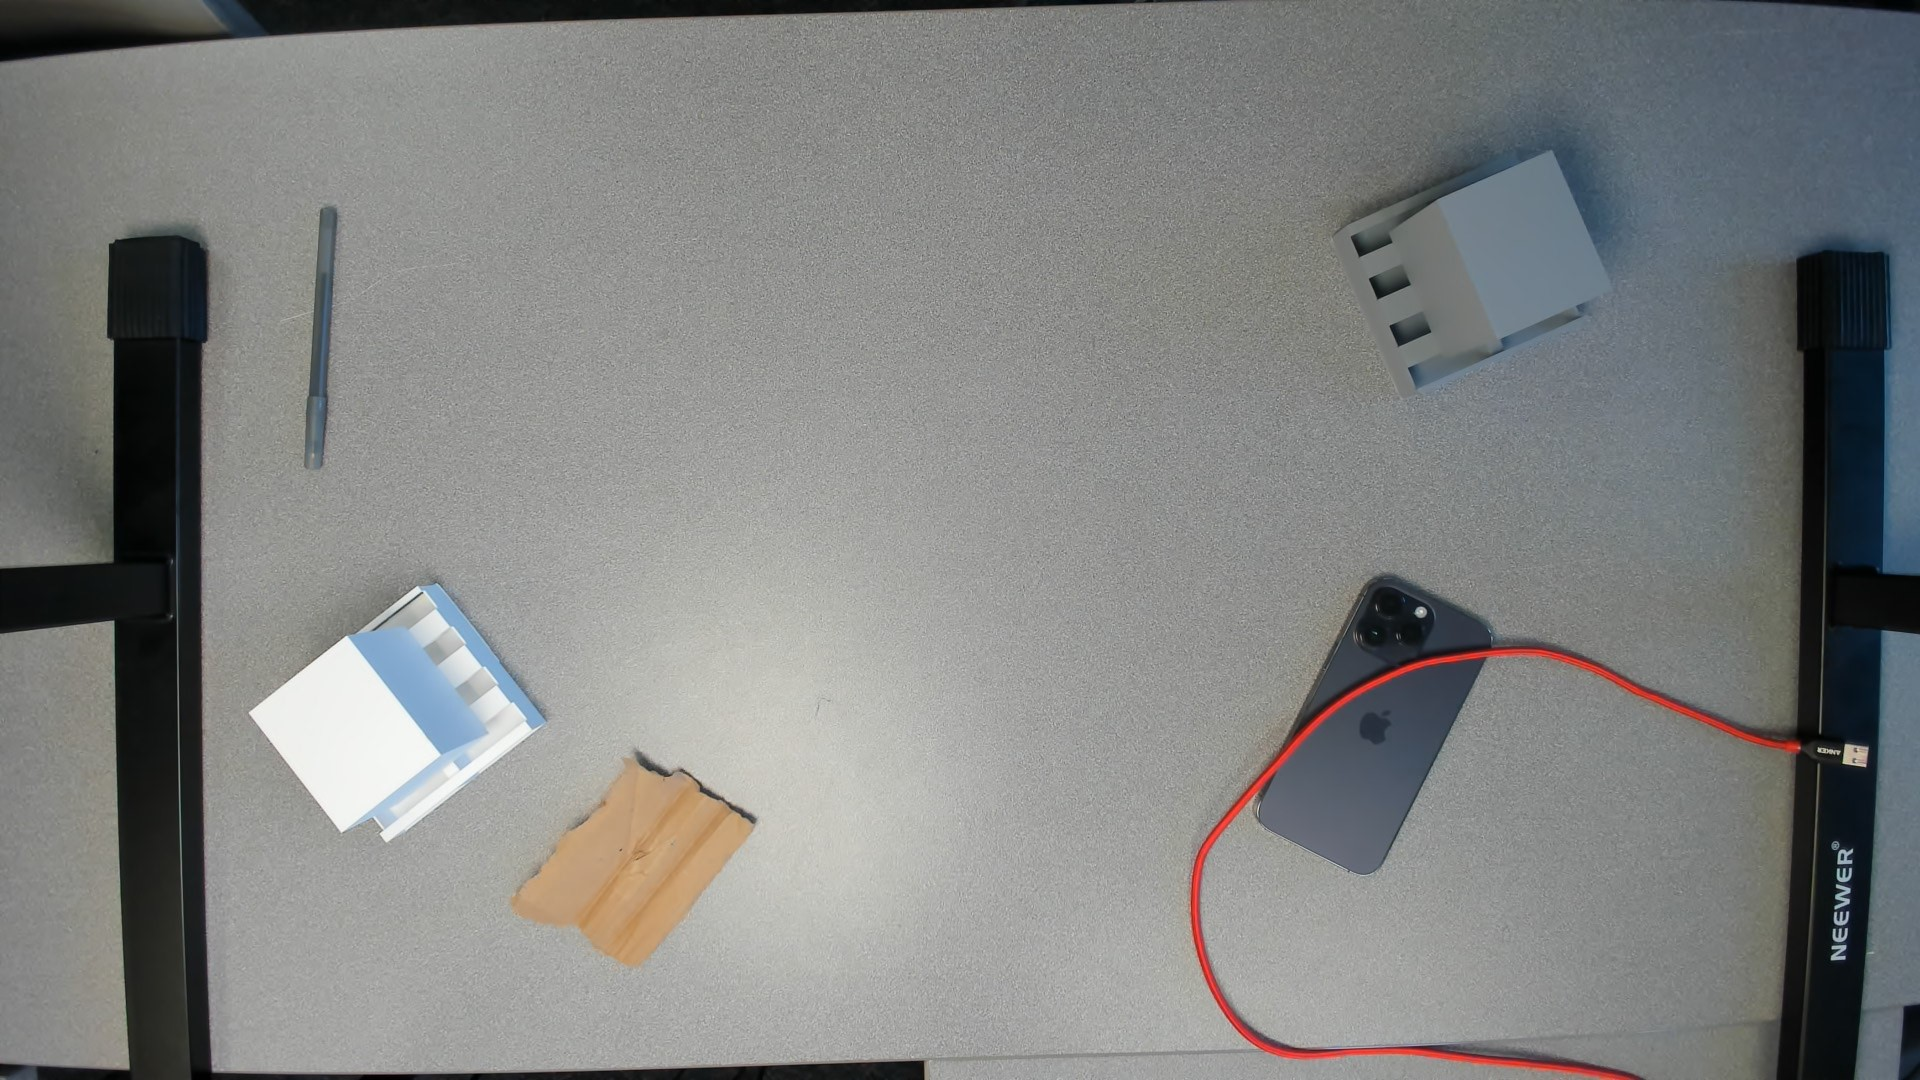grey pallet: (1329, 138, 1617, 415)
white pallet: (233, 574, 554, 855)
